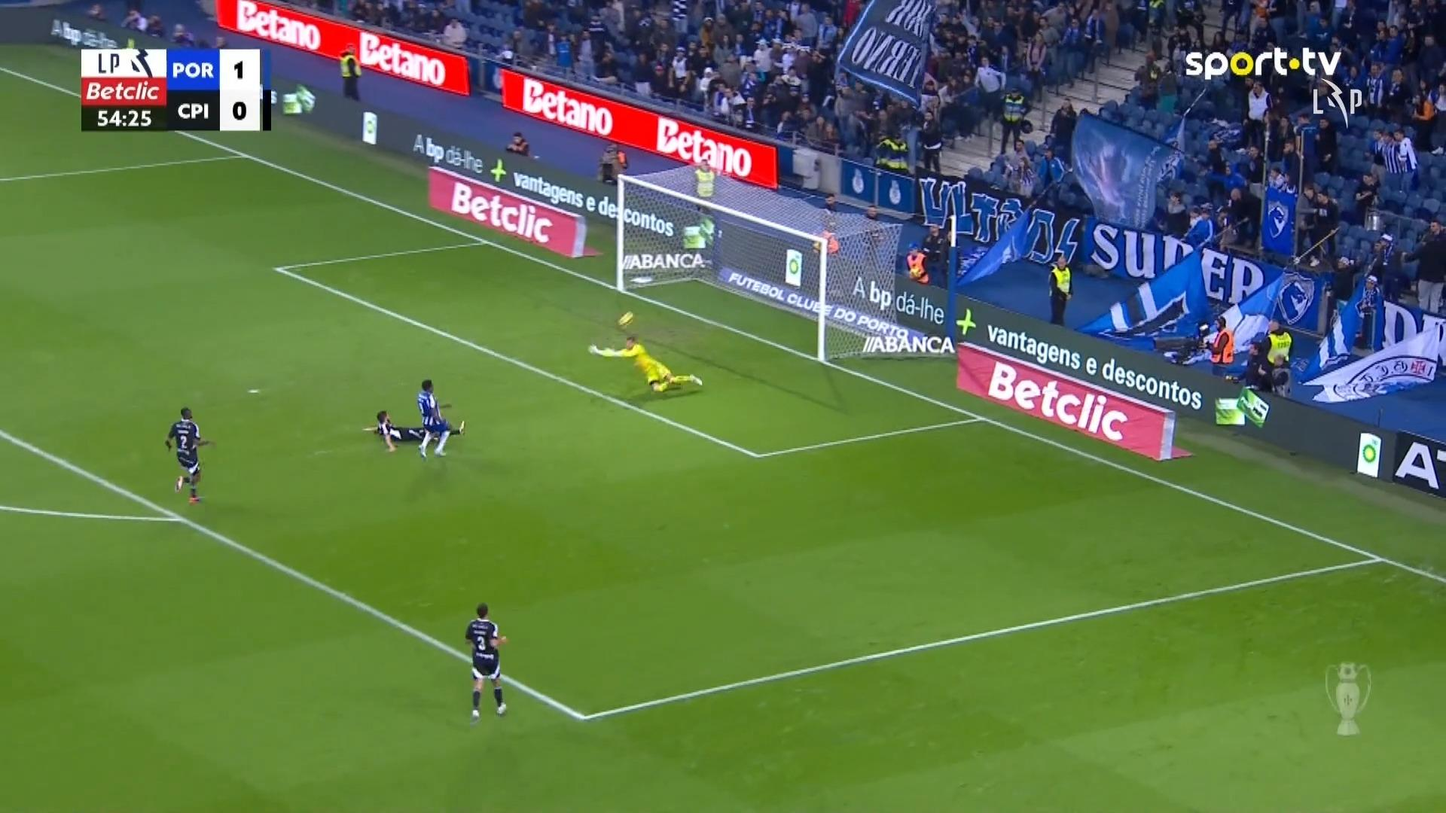ball: (617, 310, 634, 327)
player: (587, 333, 703, 394), (463, 601, 508, 720), (163, 406, 215, 504), (414, 378, 465, 458), (374, 410, 465, 452)
